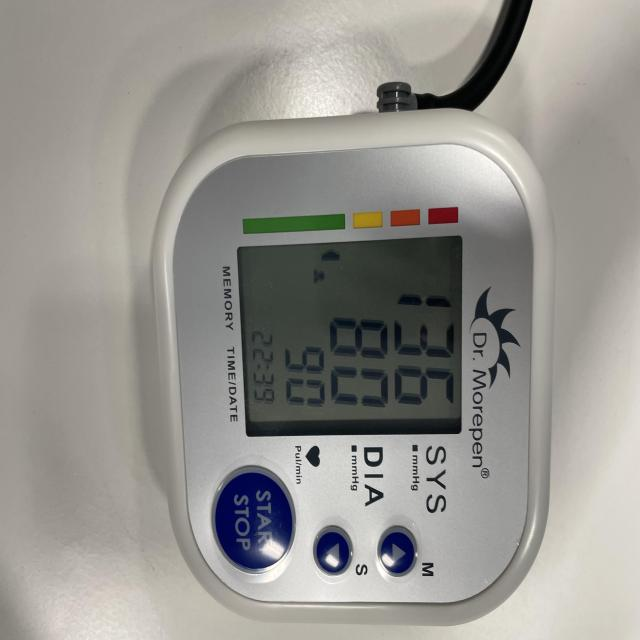bp: (128, 0, 557, 629)
